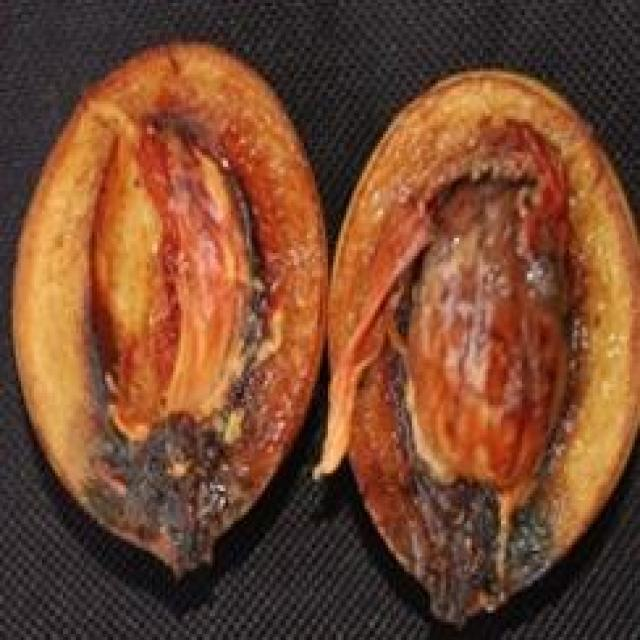damaged: (328, 71, 637, 622), (16, 45, 323, 569)
